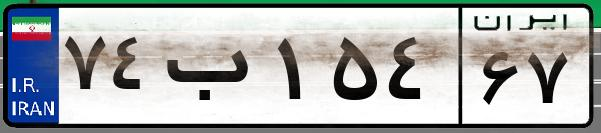1: (270, 28, 330, 110)
4: (385, 28, 445, 110), (110, 28, 158, 98)
5: (330, 28, 385, 110)
6: (475, 38, 525, 113)
7: (57, 26, 110, 100), (525, 38, 570, 115)
ب: (158, 20, 270, 120)
